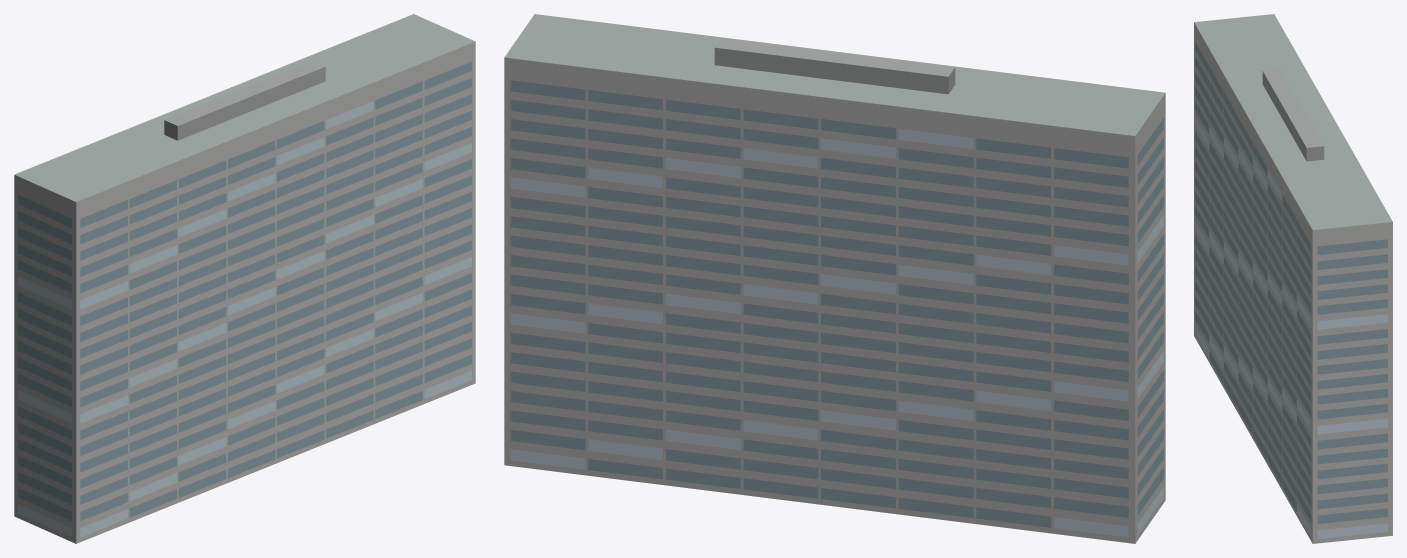
File: apt-a13388001.glb
The picture shows the model from 3 angles, left to right: view 1: azimuth 30°, elevation 25°; view 2: azimuth 150°, elevation 25°; view 3: azimuth 270°, elevation 25°; orthographic projection. The views are drawn at different scales.
Visible parts, largest first — view 1: apt-a13388001; view 2: apt-a13388001; view 3: apt-a13388001.
Part boxes in pixels (<box>): apt-a13388001: <box>14,14,475,543</box>; apt-a13388001: <box>504,14,1165,543</box>; apt-a13388001: <box>1194,14,1392,543</box>.
Bounding box in the file's own units: 82.14 × 58 × 31.95.
